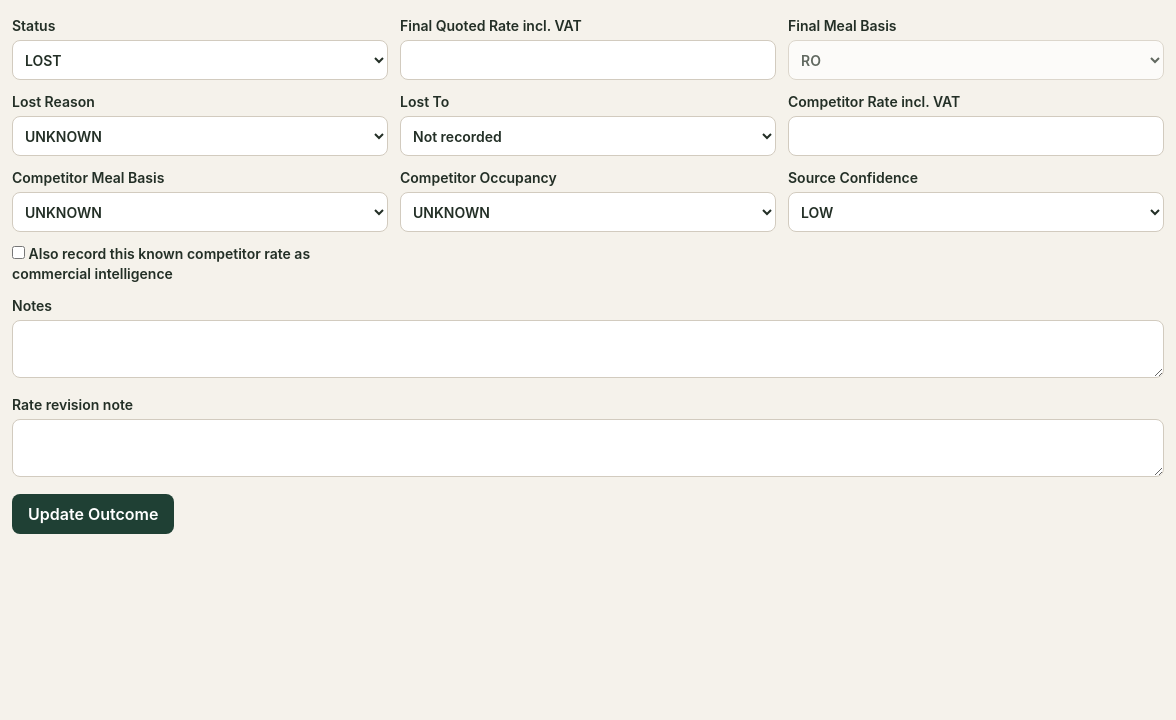
it: commercial evidence form recovery › requires both intelligence actions and explicit opt-in for a coupled observation
Click the checkbox at point(18, 252), box left=12, top=246, right=25, bottom=259
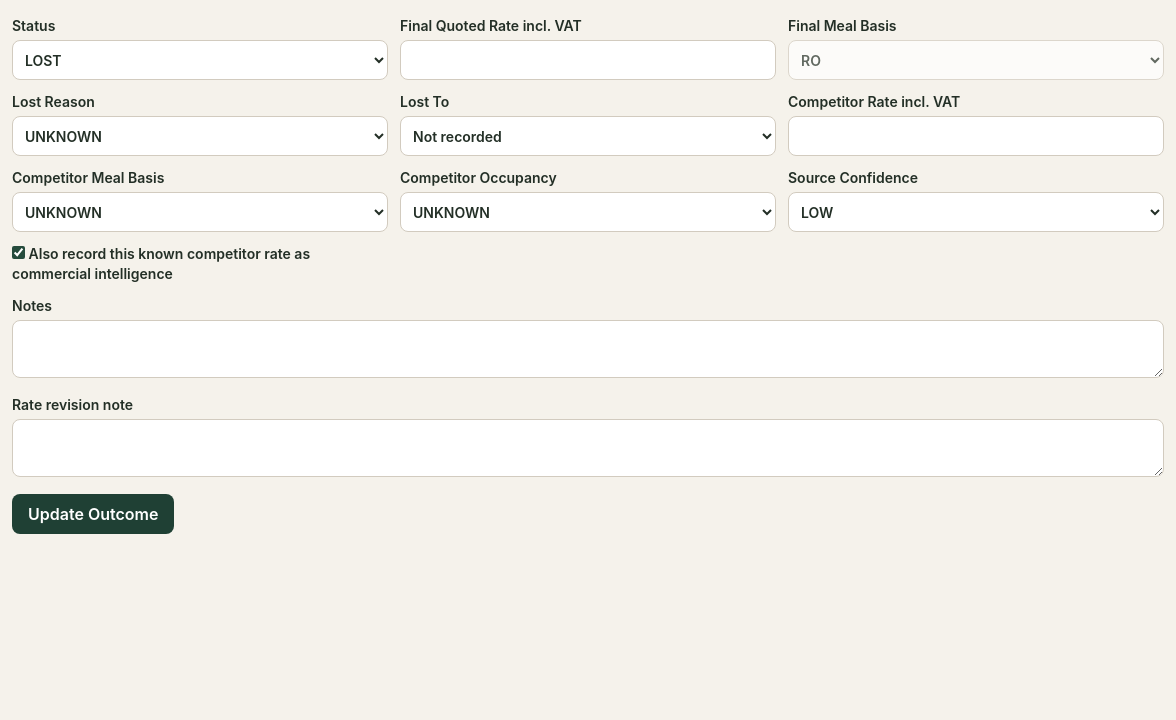
Select "Competitor" in the dropdown labelled "Lost To" at point(588, 136), box left=400, top=116, right=776, bottom=156
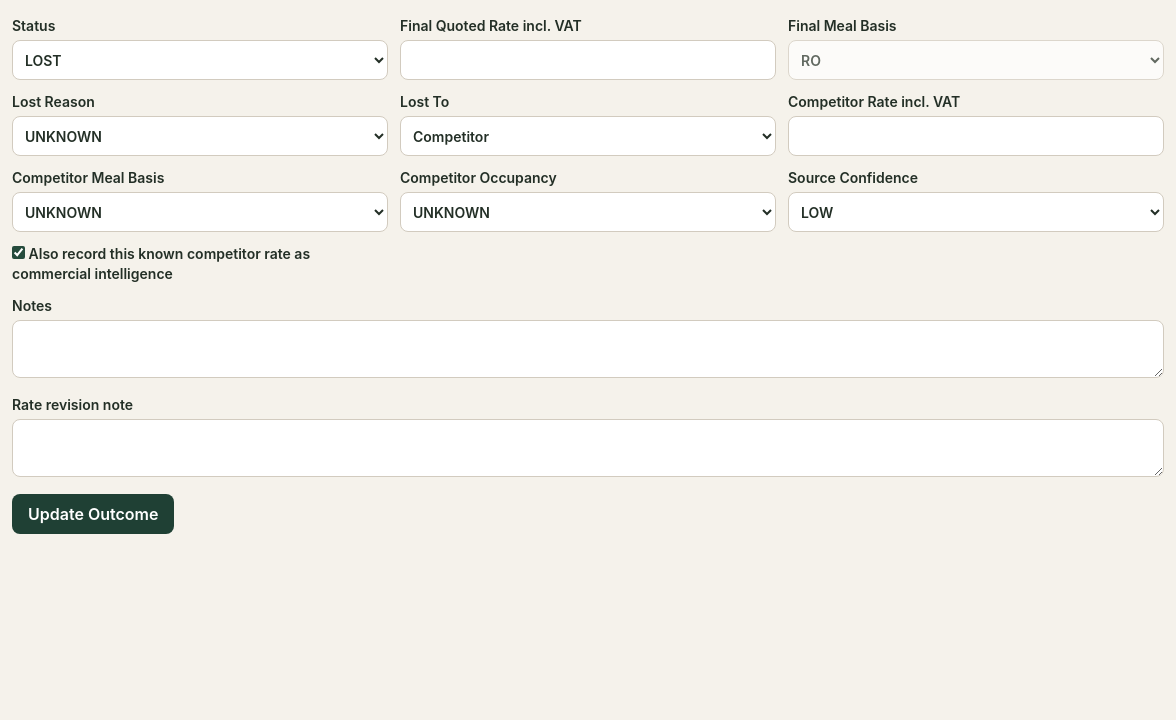
Type "120" into the number field labelled "Competitor Rate incl. VAT" at point(976, 136), box left=788, top=116, right=1164, bottom=156
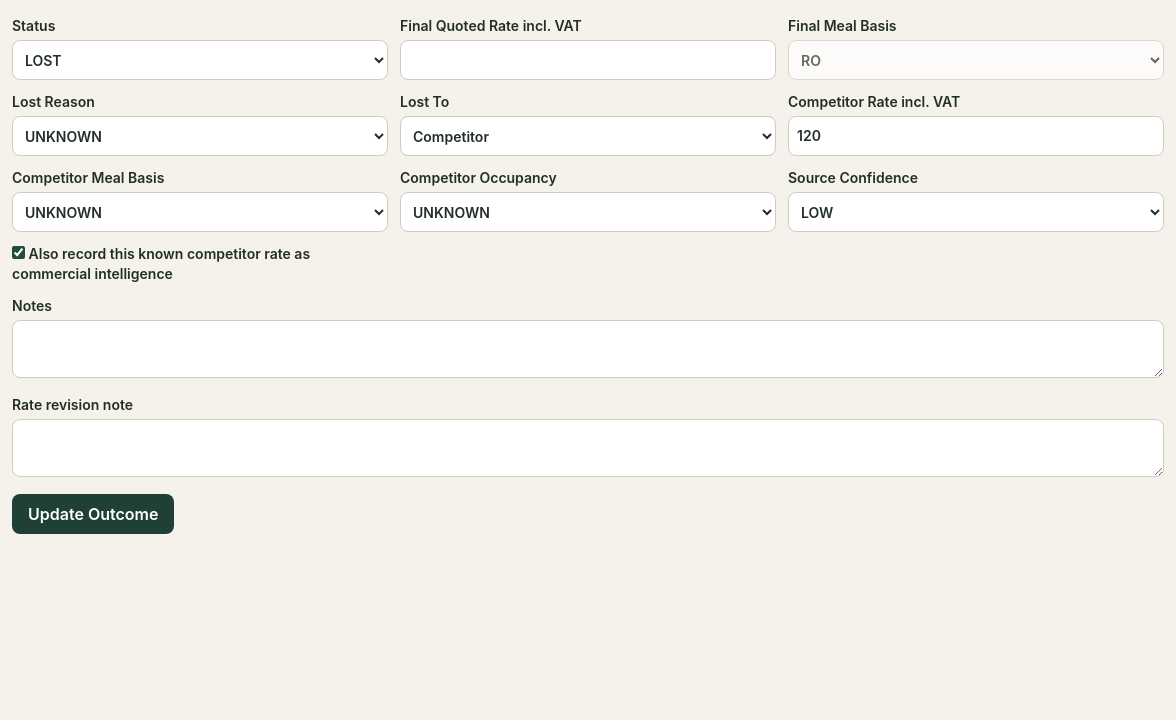
Click the button "Update Outcome" at point(93, 514), box left=12, top=494, right=174, bottom=534
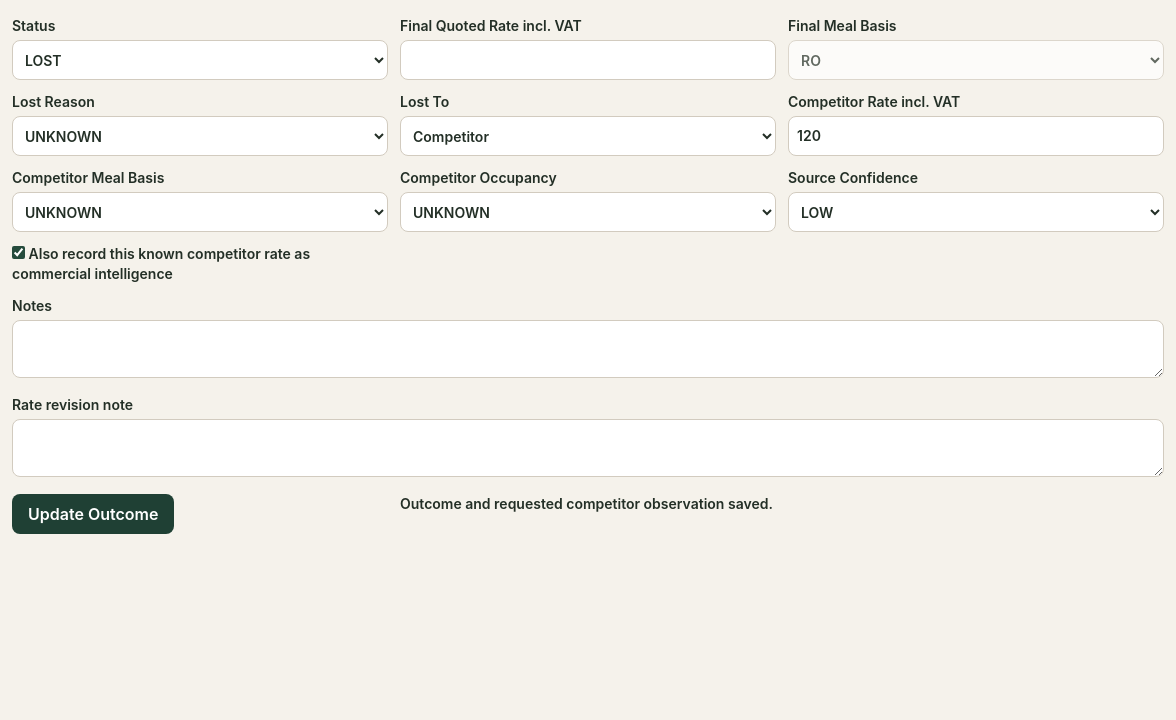
Expected: the message shows "requested competitor observation saved", left=400, top=495, right=773, bottom=512
